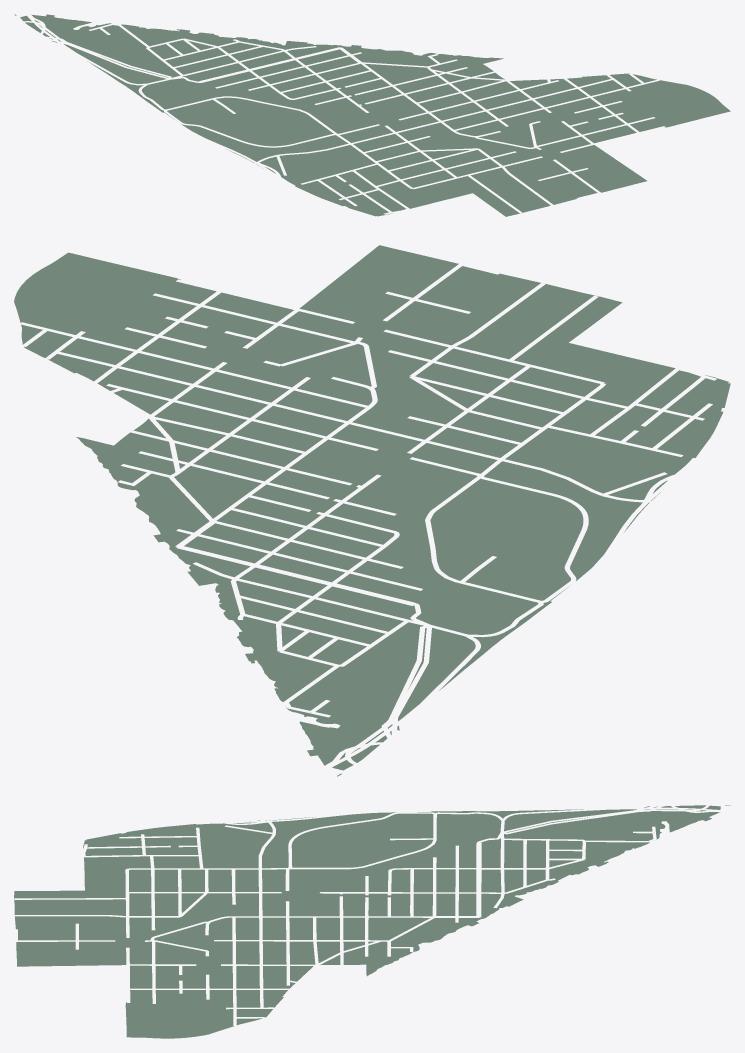
The model's file is south_park_ground.glb.
3 views of the same model, one above another, from view 1: azimuth 30°, elevation 25°; view 2: azimuth 150°, elevation 25°; view 3: azimuth 270°, elevation 25° (orthographic). The views are drawn at different scales.
Visible parts, largest first — view 1: south_park_ground; view 2: south_park_ground; view 3: south_park_ground.
Part boxes in pixels (box(x1,y1,x2,y2)): south_park_ground: box(14, 14, 730, 216); south_park_ground: box(14, 245, 730, 776); south_park_ground: box(14, 805, 730, 1038).
Size of the model in its own units: 1939 by 0 by 2519.
